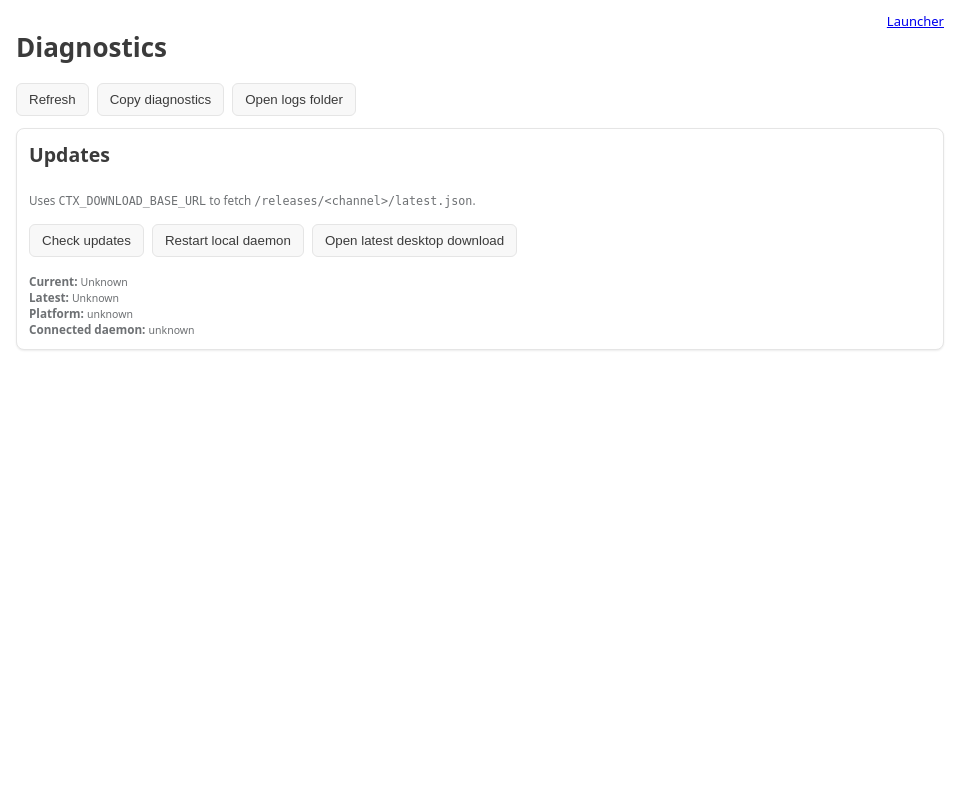
Test: DiagnosticsPage updates › shows unsupported-platform notice when no desktop artifact exists
This screenshot has width=961, height=806.
Click the button "Check updates". click: point(86, 240)
box: top-left (29, 224), bottom-right (144, 257)
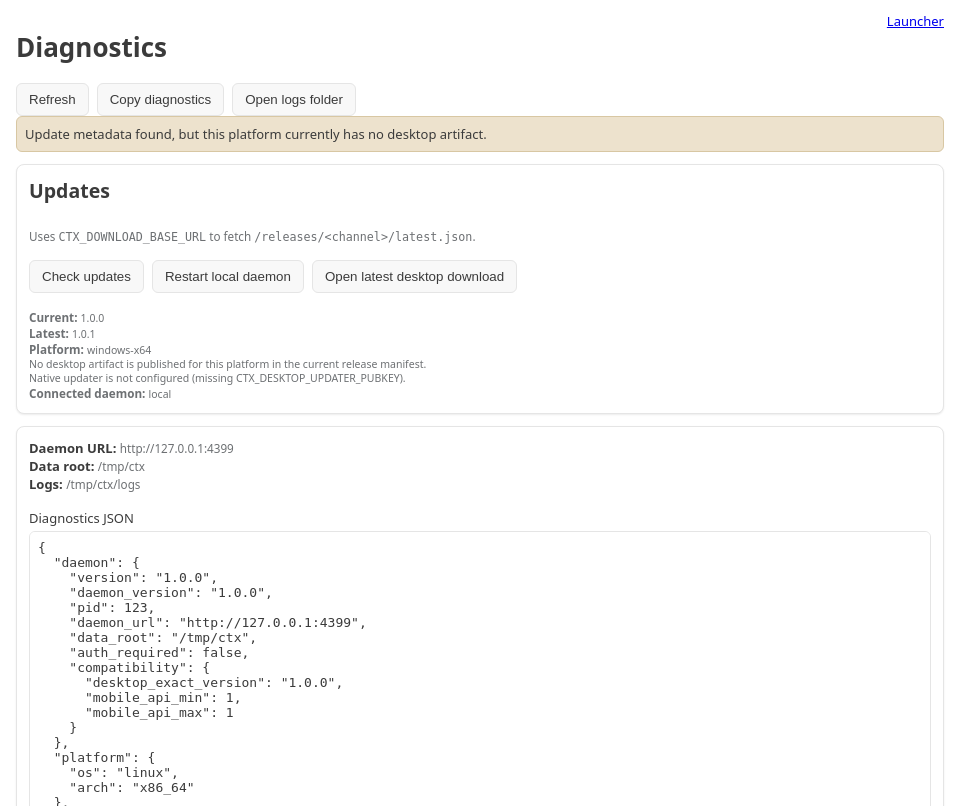
Expected: the text "Update metadata found, but this platform currently has no desktop artifact." is shown, top-left (16, 116), bottom-right (944, 152)
